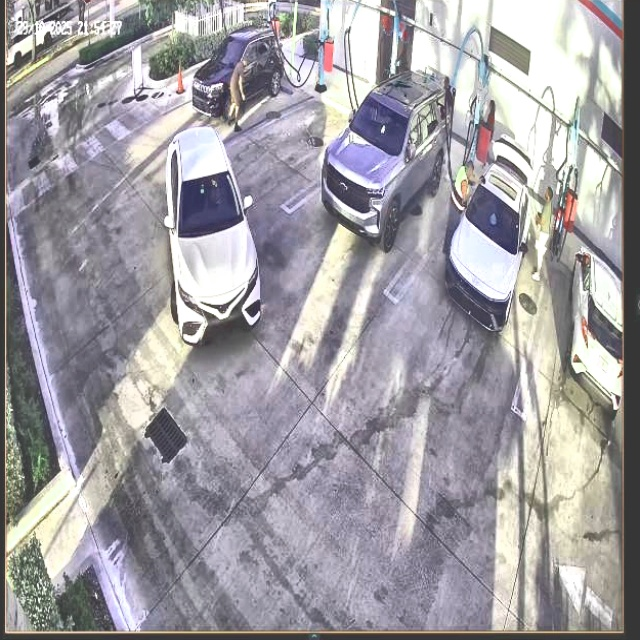Car: (166, 124, 263, 348), (322, 71, 447, 244), (449, 141, 533, 332)
